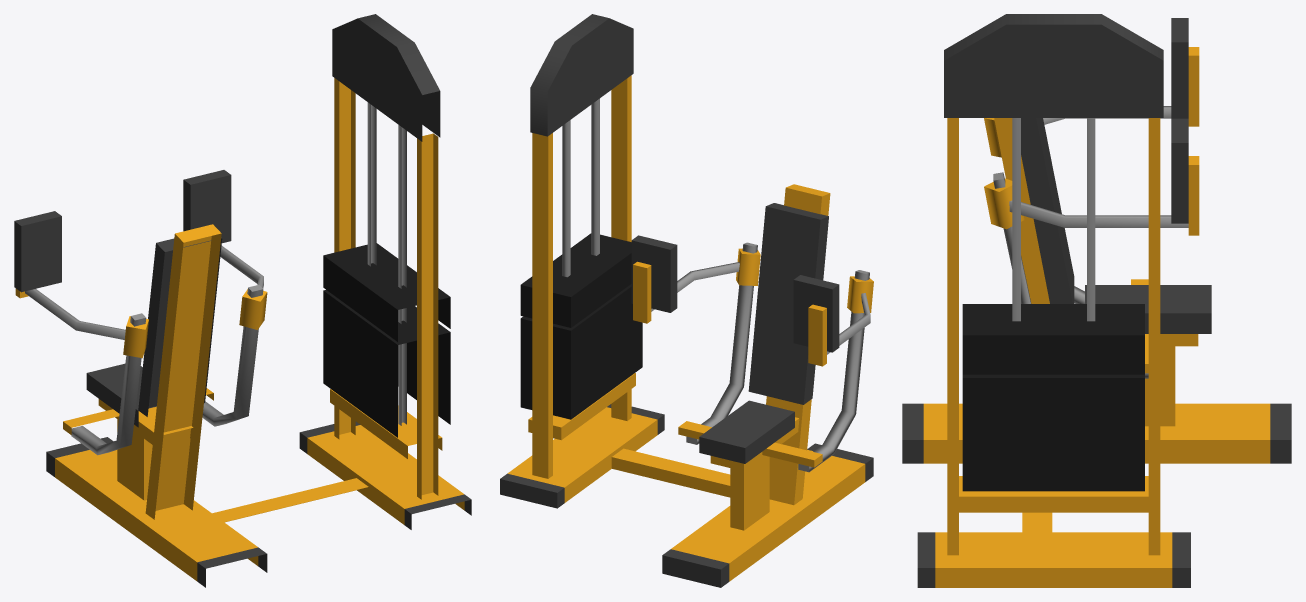
File: interior_k_008.fbx
3 views of the same model, side by side, from view 1: azimuth 30°, elevation 25°; view 2: azimuth 150°, elevation 25°; view 3: azimuth 270°, elevation 25° (orthographic). The views are drawn at different scales.
Visible parts, largest first — view 1: interior_k_008; view 2: interior_k_008; view 3: interior_k_008.
Boxes of the visible parts, x1,y1,x2,y2 form: interior_k_008: [14, 14, 471, 587]; interior_k_008: [500, 14, 873, 587]; interior_k_008: [902, 14, 1291, 587].
Size of the model in its own units: 126 by 157 by 100.
